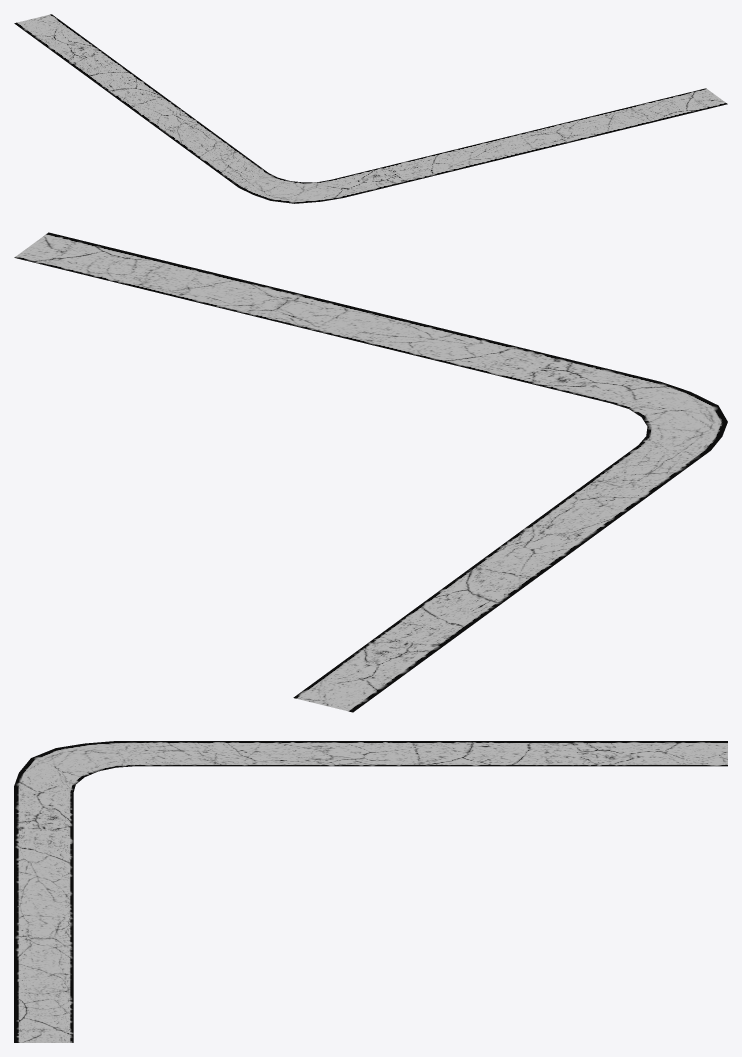
Rendered from Sidewalk_Corner_Flat_2m_Stripe.gltf.
3 views of the same model, one above another, from view 1: azimuth 30°, elevation 25°; view 2: azimuth 150°, elevation 25°; view 3: azimuth 270°, elevation 25° (orthographic). The views are drawn at different scales.
Parts seen in each view (by area): view 1: Sidewalk_Corner_Flat_2m_Stripe; view 2: Sidewalk_Corner_Flat_2m_Stripe; view 3: Sidewalk_Corner_Flat_2m_Stripe.
Part boxes in pixels (box(x1,y1,x2,y2)): Sidewalk_Corner_Flat_2m_Stripe: box(14, 14, 727, 203); Sidewalk_Corner_Flat_2m_Stripe: box(14, 232, 727, 712); Sidewalk_Corner_Flat_2m_Stripe: box(14, 741, 727, 1042).
Size of the model in its own units: 2.4 by 0 by 2.4.
1 material, 1 textured.
